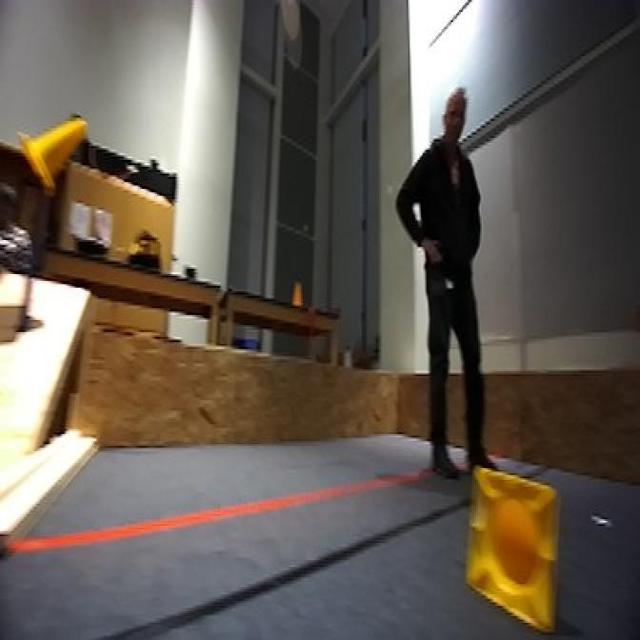frc_cone: (466, 463, 563, 630), (21, 114, 83, 187)
